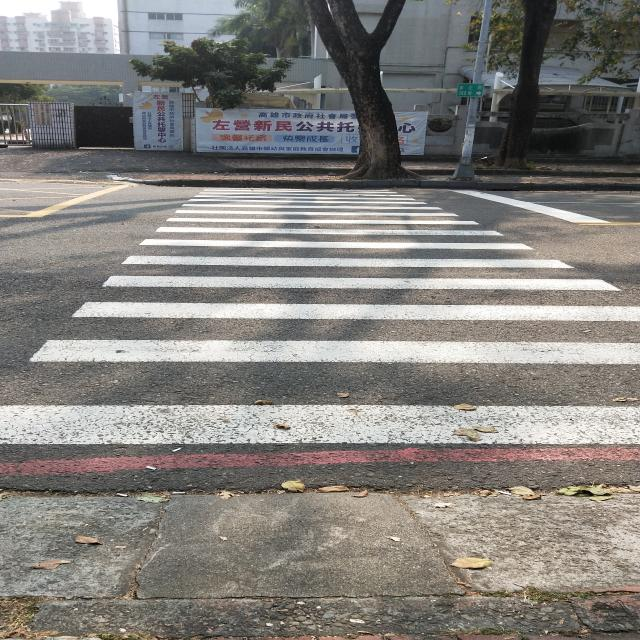zebra crossing: (0, 185, 640, 459)
